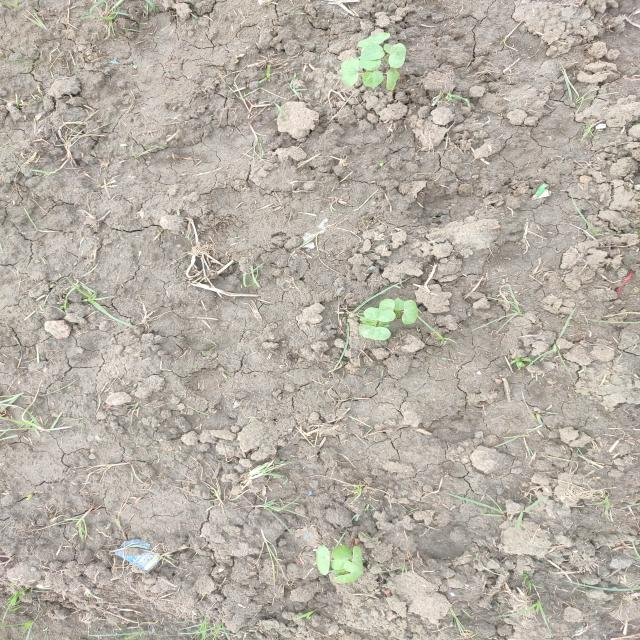seedling_s4: (357, 43, 385, 61), (357, 32, 390, 47), (341, 59, 359, 86), (364, 307, 396, 322), (359, 325, 391, 340), (388, 43, 406, 68), (316, 545, 330, 575), (362, 71, 384, 90), (402, 300, 418, 325), (333, 571, 363, 583), (330, 559, 357, 572), (351, 546, 363, 573), (332, 545, 352, 560), (386, 68, 399, 90), (359, 59, 381, 71), (379, 299, 395, 311), (360, 317, 377, 327), (394, 297, 405, 311), (329, 569, 346, 575)
